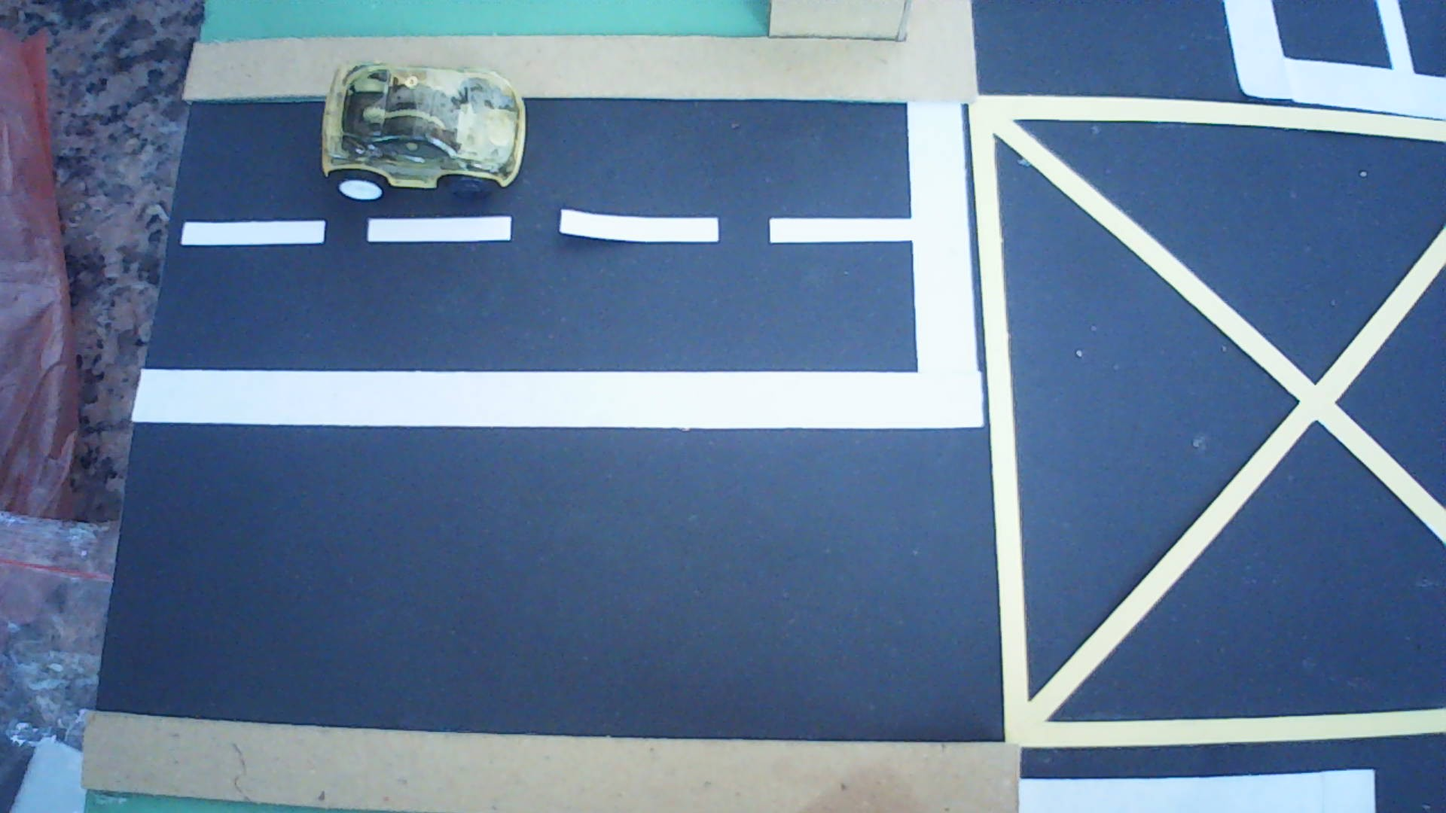Mobil kuning: (321, 62, 524, 199)
